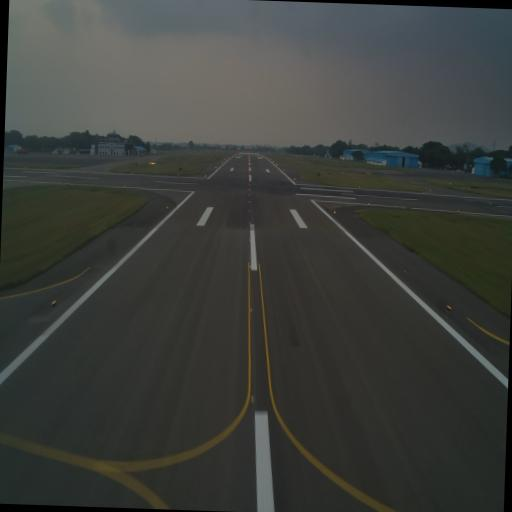on: (248, 390, 255, 406), (50, 297, 58, 308), (445, 304, 452, 312), (248, 305, 253, 315), (246, 236, 252, 243), (247, 262, 252, 270)
